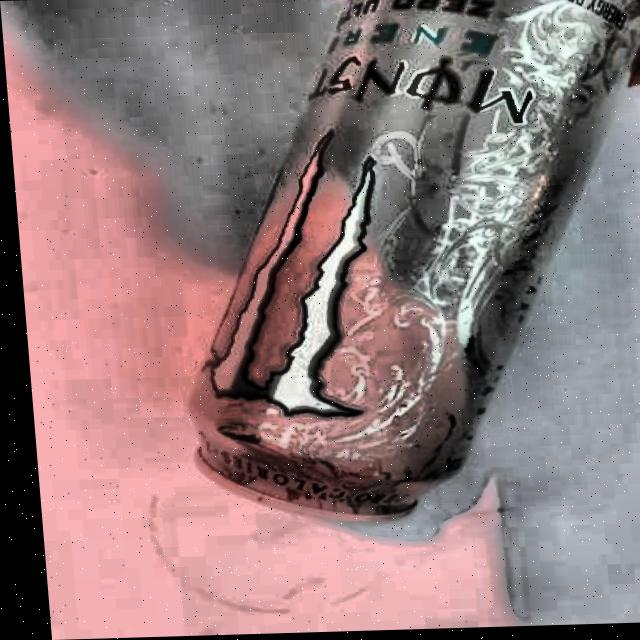metal: (150, 0, 640, 526)
